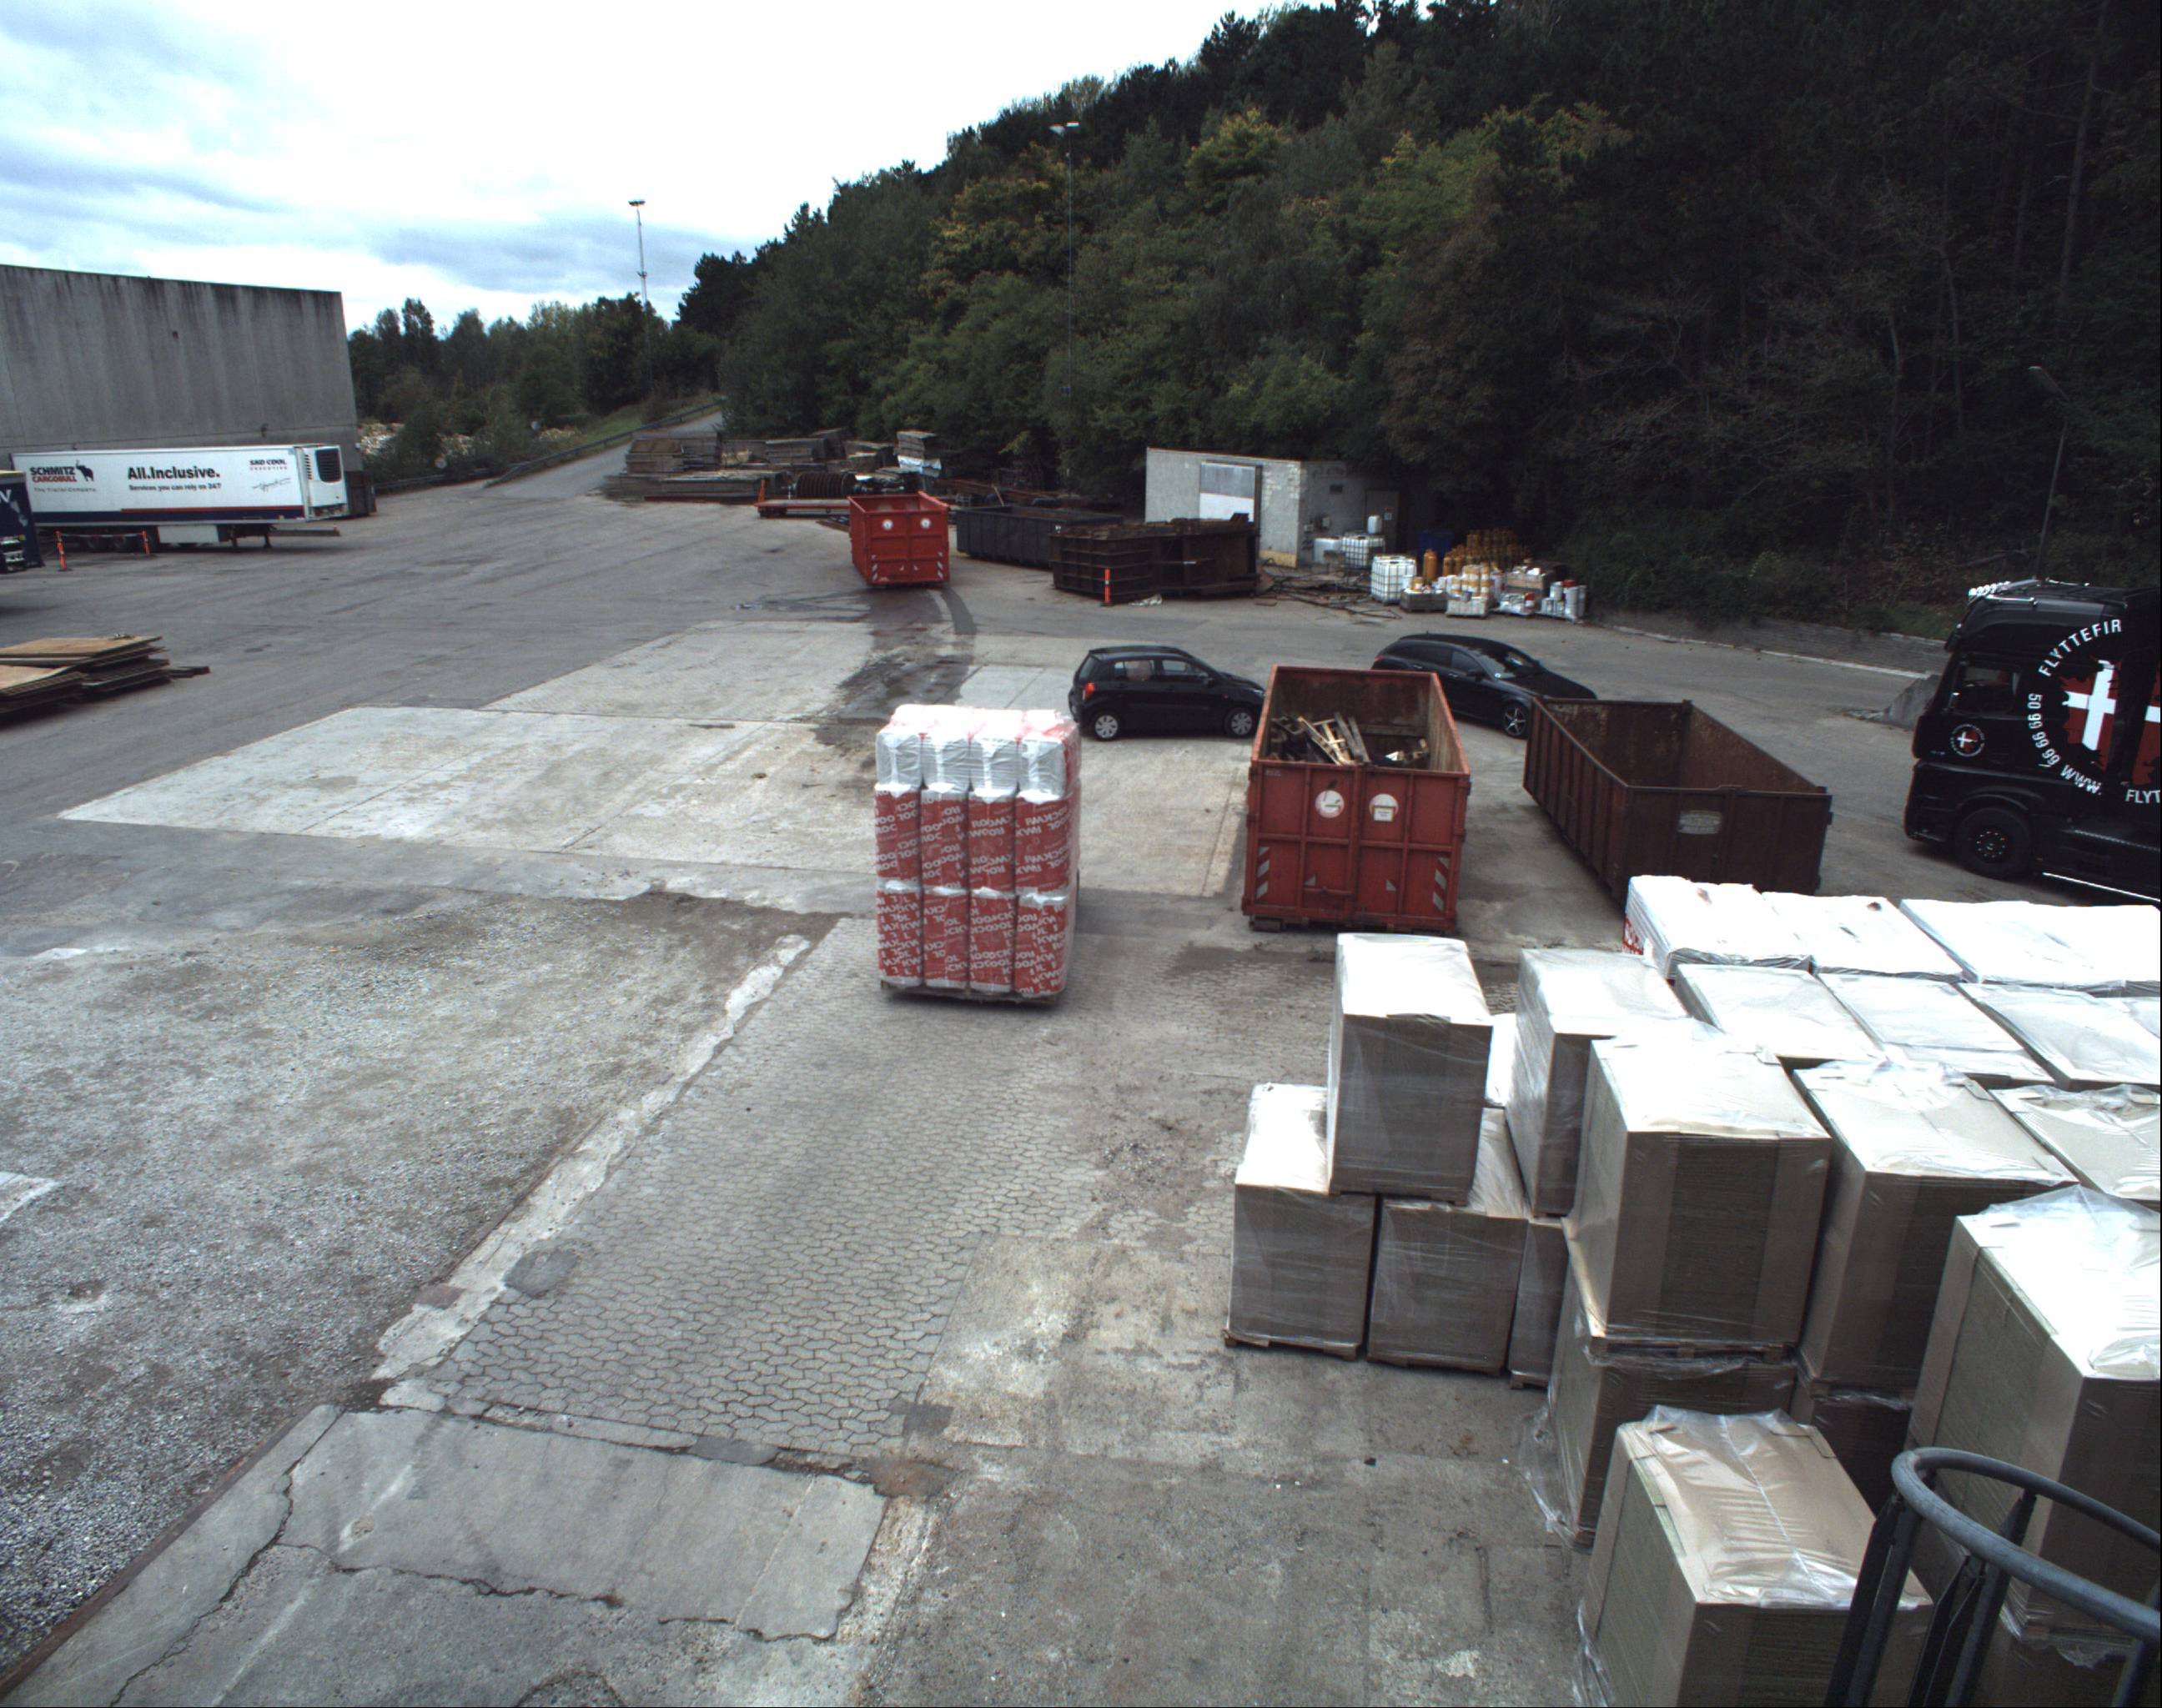rockwool_batts: (877, 690, 1079, 1001)
